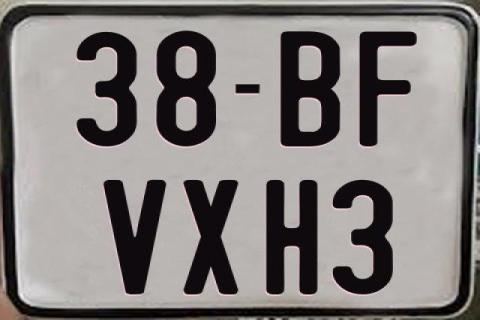0: (155, 29, 221, 149), (74, 31, 138, 148), (330, 180, 392, 296)
B: (278, 29, 343, 150)
F: (358, 31, 422, 148)
H: (264, 180, 319, 298)
V: (103, 179, 171, 297)
X: (183, 178, 242, 294)
